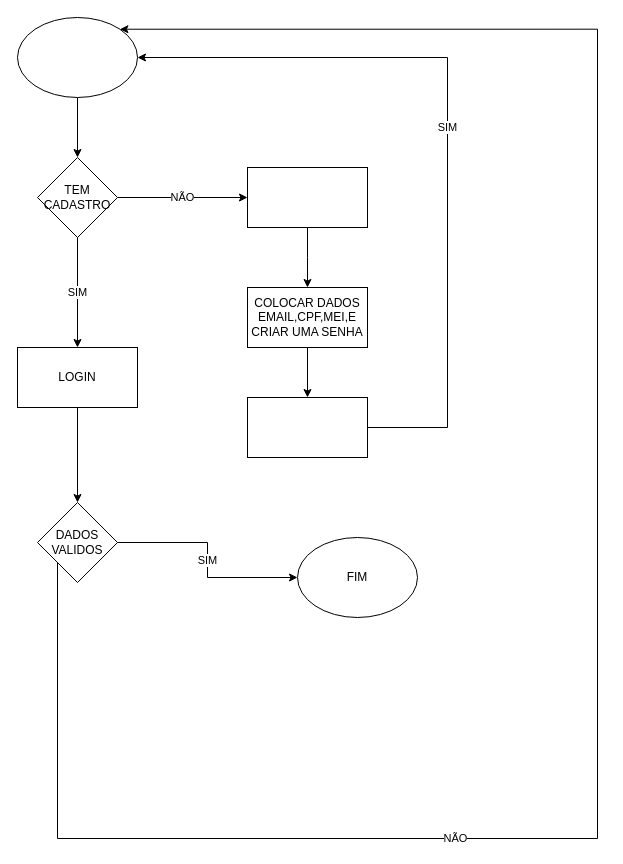
Image size: 623x864. Some labels were removed from this diagram. Each missing label, with the box of its shape:
CADASTRO CONCLUIDO COM SUCESSO: (246, 396, 368, 458)
FAZER CADASTRO: (246, 166, 368, 228)
INICIO: (16, 16, 138, 98)
